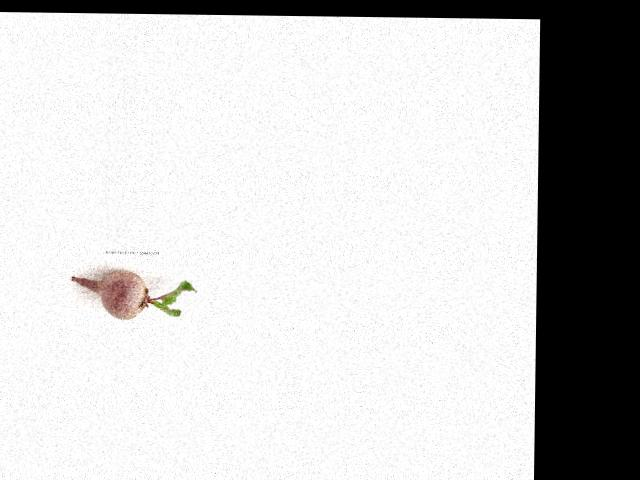beet: (72, 269, 197, 320)
